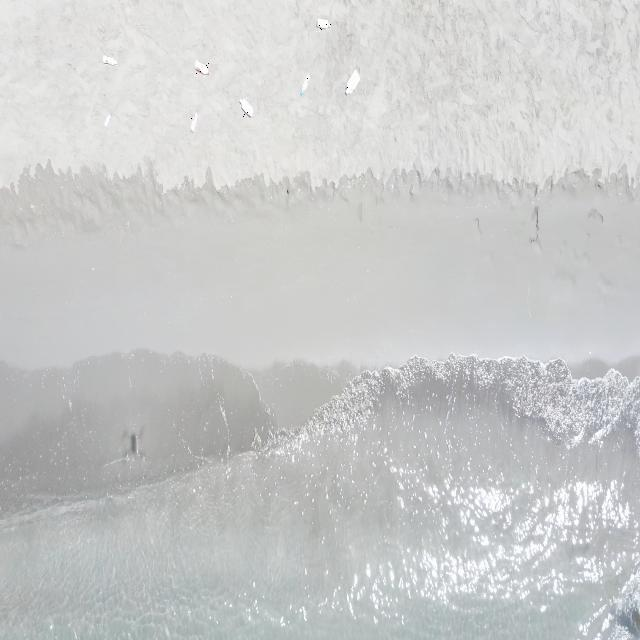Garbage: (344, 68, 359, 94), (240, 98, 252, 116), (194, 61, 207, 74), (300, 75, 308, 95), (190, 111, 196, 131), (103, 55, 116, 64), (316, 18, 329, 26), (103, 112, 110, 125)
